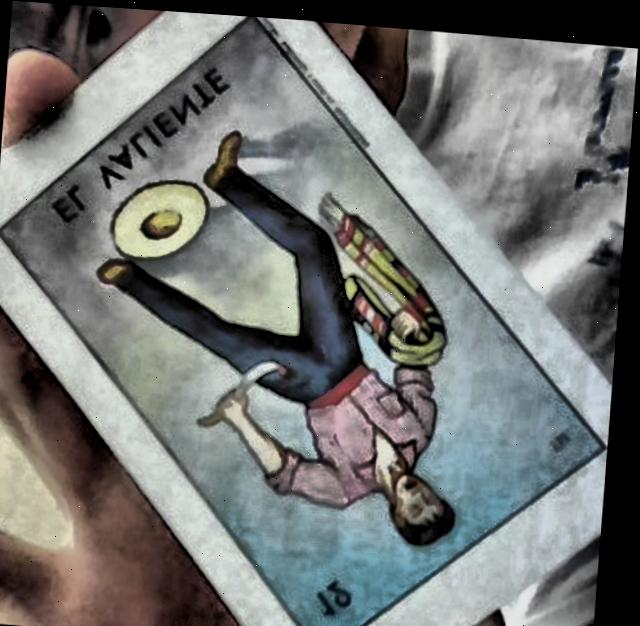El Valiente: (3, 18, 600, 626)
